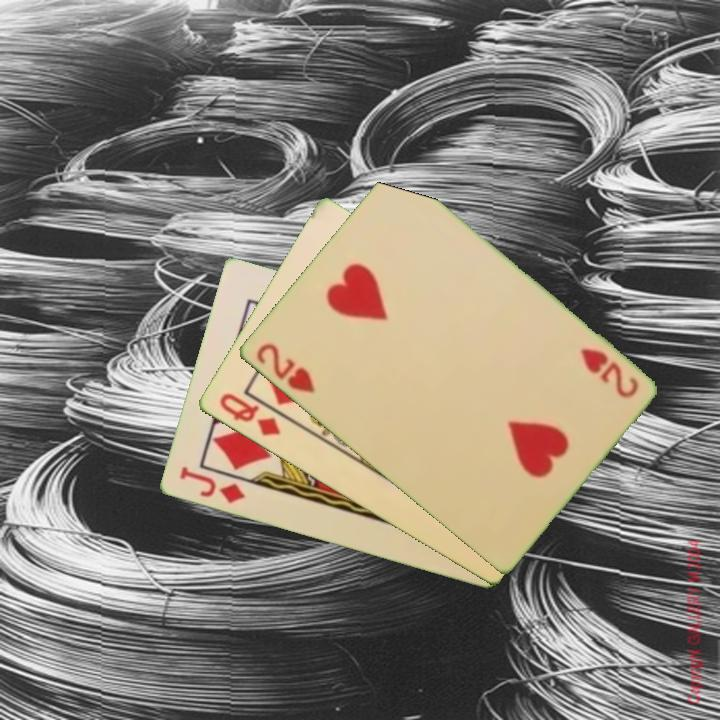2h: (252, 339, 318, 396), (576, 344, 641, 401)
Jd: (175, 463, 247, 507)
Qd: (215, 389, 283, 440)
